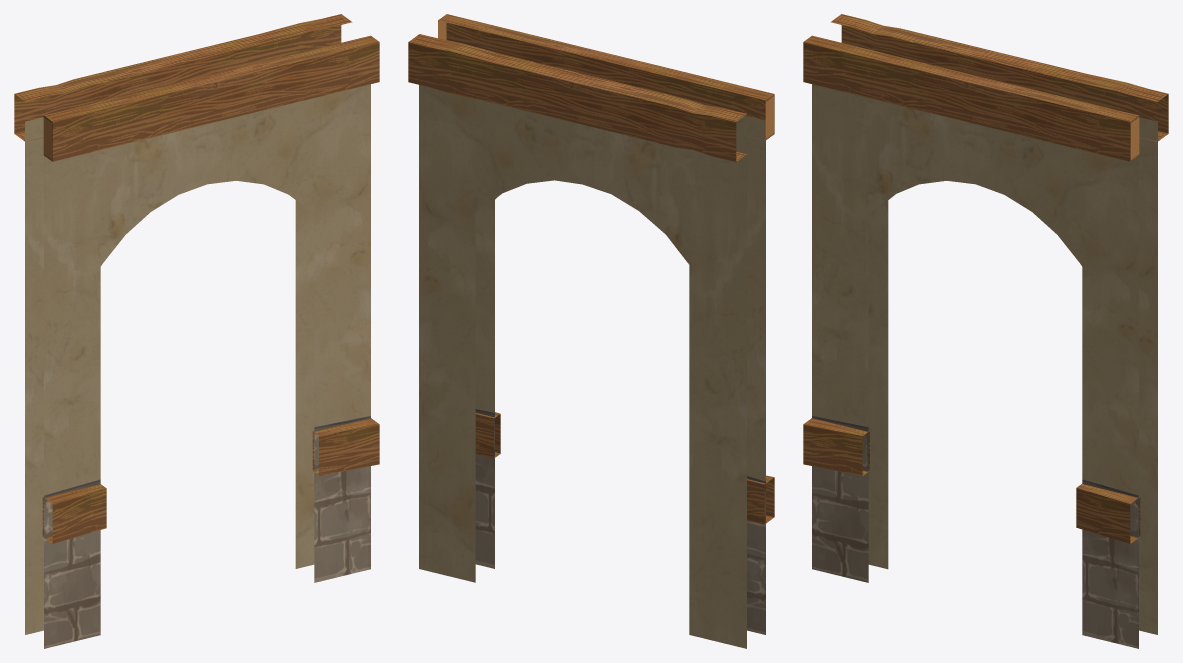
3 renders of one model, left to right at view 1: azimuth 30°, elevation 25°; view 2: azimuth 150°, elevation 25°; view 3: azimuth 330°, elevation 25°, orthographic.
Visible parts, largest first — view 1: 73a564ec6fac421850c369c2ad56075889a84e400bdd16a4a48fc595dbca; view 2: 73a564ec6fac421850c369c2ad56075889a84e400bdd16a4a48fc595dbca; view 3: 73a564ec6fac421850c369c2ad56075889a84e400bdd16a4a48fc595dbca.
Boxes of the visible parts, left/top/right/bottom form: 73a564ec6fac421850c369c2ad56075889a84e400bdd16a4a48fc595dbca: left=14, top=14, right=379, bottom=648; 73a564ec6fac421850c369c2ad56075889a84e400bdd16a4a48fc595dbca: left=408, top=14, right=774, bottom=648; 73a564ec6fac421850c369c2ad56075889a84e400bdd16a4a48fc595dbca: left=803, top=14, right=1168, bottom=648.
Bounding box in the file's own units: 2 × 3.12 × 0.4065.
Materials: 3 (3 with a texture image).
